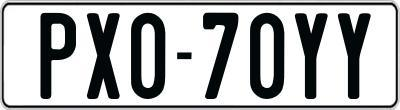0: (250, 12, 289, 104), (128, 13, 168, 102)
7: (200, 11, 240, 100)
P: (38, 12, 80, 102)
X: (87, 11, 125, 103)
Y: (336, 11, 374, 98), (293, 10, 327, 98)
